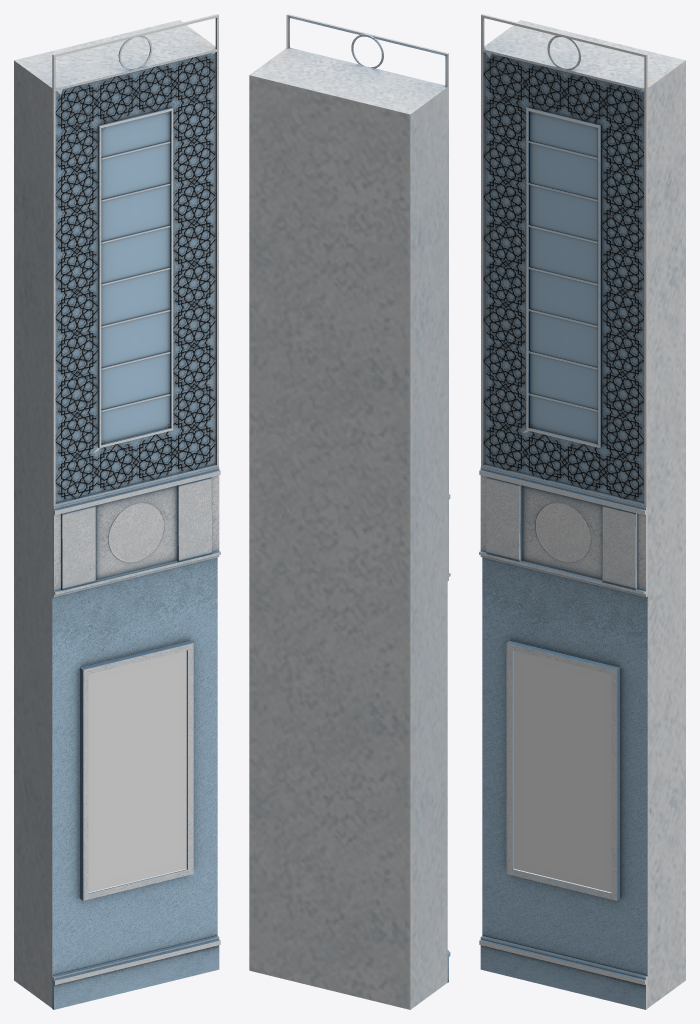
Rendered from midwall_3.glb.
3 renders of one model, left to right at view 1: azimuth 30°, elevation 25°; view 2: azimuth 150°, elevation 25°; view 3: azimuth 330°, elevation 25°, orthographic. The views are drawn at different scales.
Visible parts, largest first — view 1: midwall_3; view 2: midwall_3; view 3: midwall_3.
Boxes of the visible parts, bbox=[...] form: midwall_3: bbox=[14, 14, 220, 1009]; midwall_3: bbox=[249, 14, 450, 1009]; midwall_3: bbox=[479, 14, 685, 1009].
Size of the model in its own units: 1.5 by 8.26 by 0.6527.
Materials: 1 (1 with a texture image).
